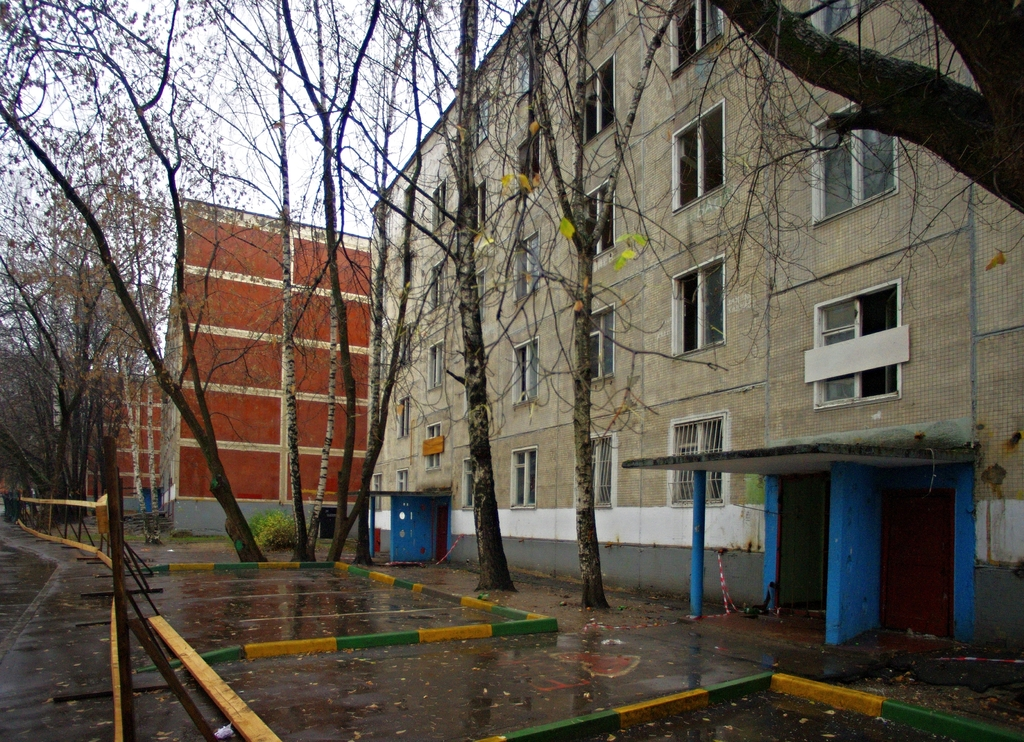Tree: (129, 0, 1023, 604), (12, 57, 214, 592)
